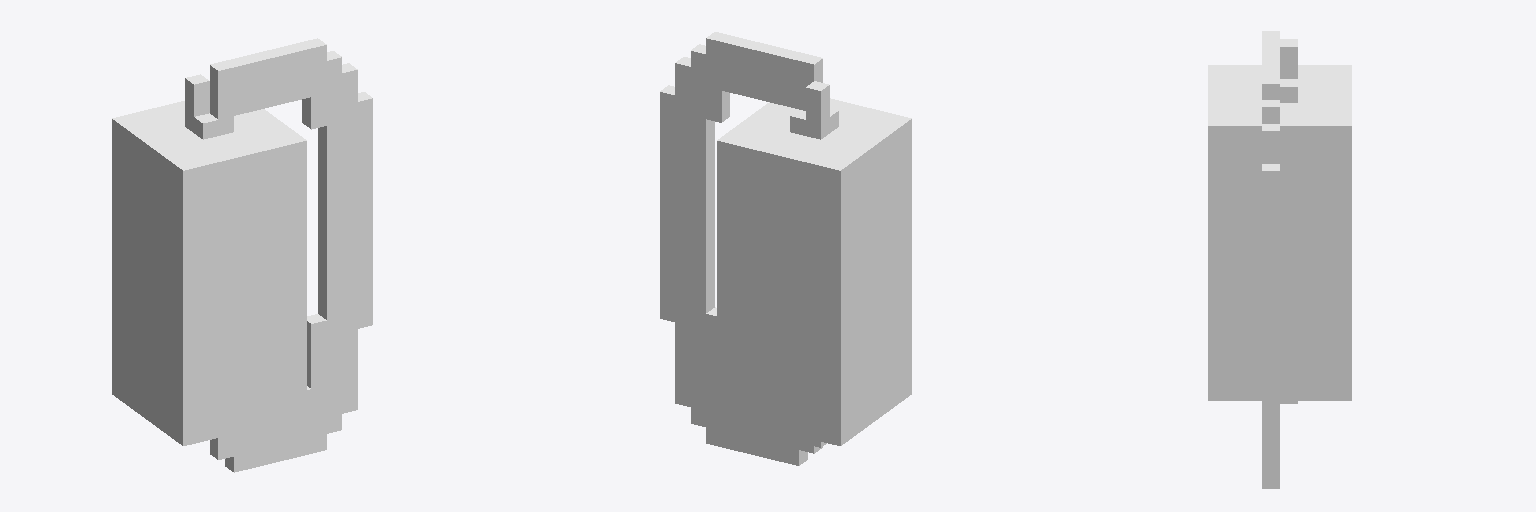
The model's file is obj.batteryGum.obj.
3 views of the same model, side by side, from view 1: azimuth 30°, elevation 25°; view 2: azimuth 150°, elevation 25°; view 3: azimuth 270°, elevation 25° (orthographic).
Parts seen in each view (by area): view 1: object 1; view 2: object 1; view 3: object 1.
Boxes of the visible parts, x1,y1,x2,y2 form: object 1: [112, 38, 372, 472]; object 1: [660, 32, 911, 465]; object 1: [1208, 31, 1351, 488].
Bounding box in the file's own units: 1.4 × 2.5 × 0.8.